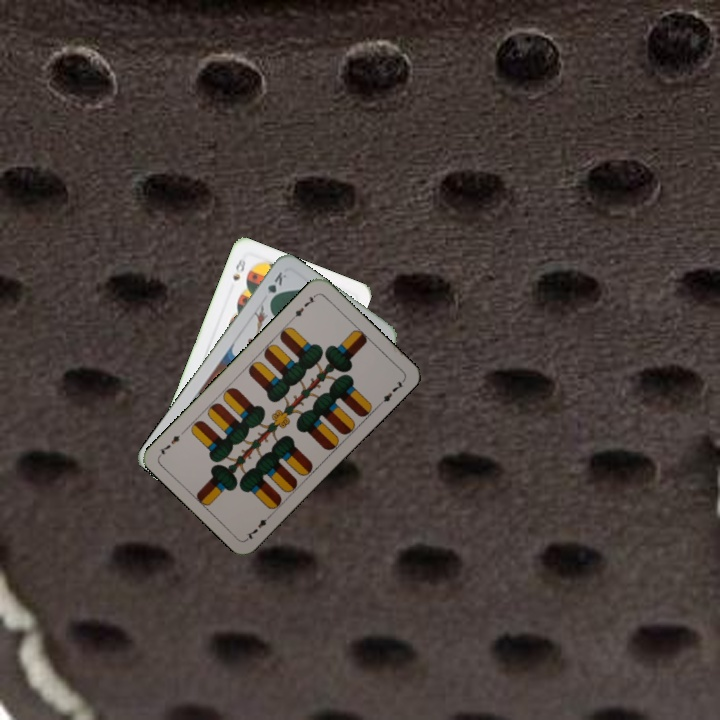E7: (287, 290, 319, 323), (242, 510, 274, 542)
GK: (263, 267, 289, 306)
S8: (229, 252, 248, 283)
